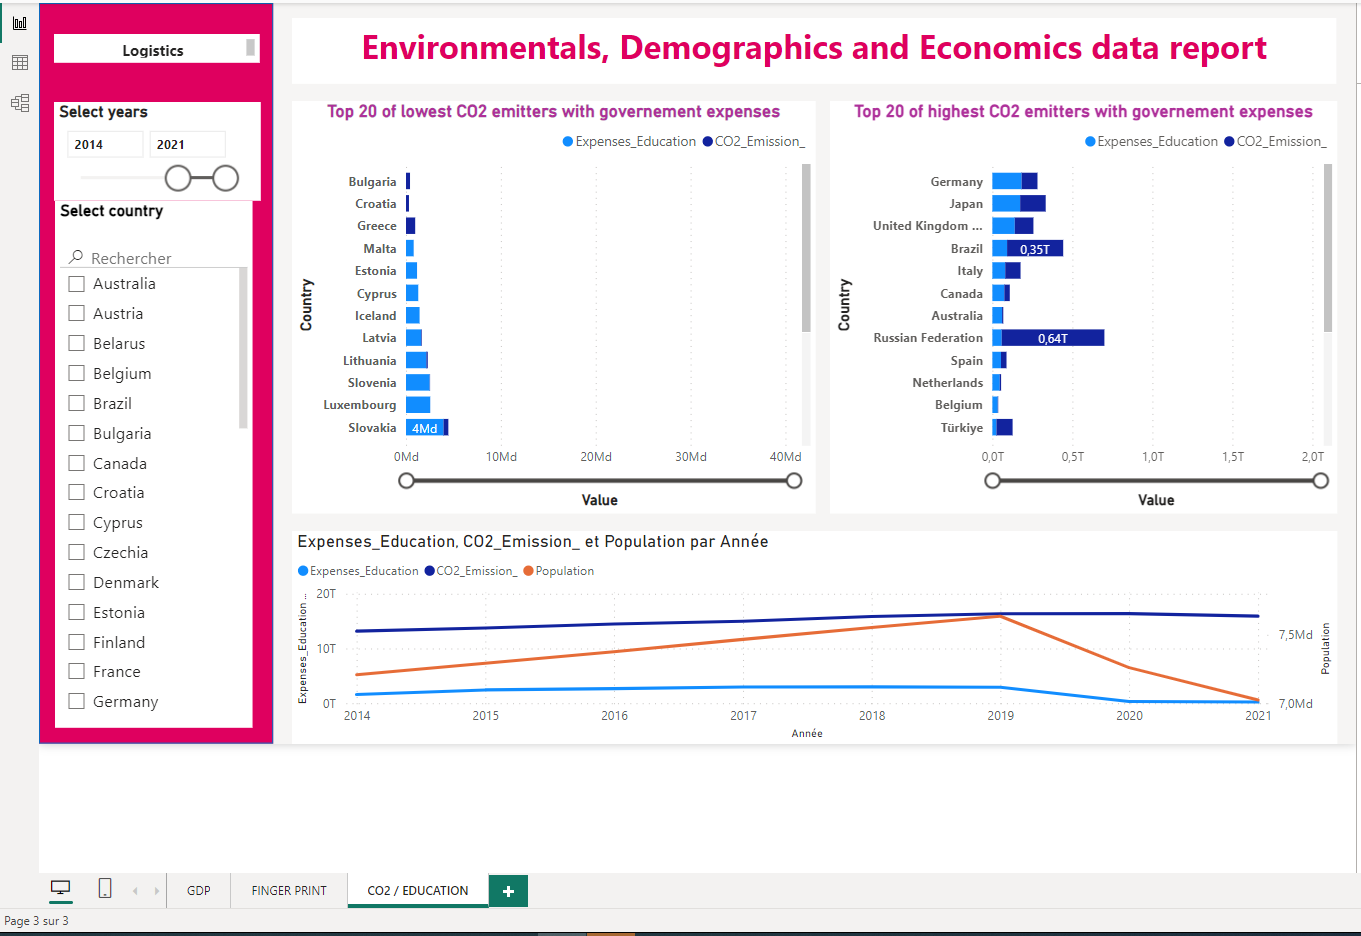

The page's visual inventory and layout, read from the dashboard file:
{"tool":"powerbi","page":{"name":"CO2 / EDUCATION","canvas":[1280,720],"ordinal":2},"visuals":[{"type":"shape","box":[0,0,227.6,719.8],"z":0,"group":"g2"},{"type":"slicer","title":"Select years","fields":{"Values":["DimDate.FullDate.Variation.Hiérarchie de dates.Année"]},"box":[15,95.8,201.2,96.2],"z":0,"group":"g1"},{"type":"textbox","box":[14.3,671.2,199.9,30.9],"z":0},{"type":"textbox","box":[246.2,15,1015,63.8],"z":1000},{"type":"group","id":"g1","title":"Groupe 5","box":[15,95.8,200.8,95.8],"z":1000,"group":"g2"},{"type":"barChart","title":"Top 20 of lowest CO2 emitters with governement expenses","fields":{"Y":["Mesures.Expenses_Education","Mesures.CO2_Emission_"],"Category":["Country Table.Country"]},"box":[245.7,95.7,508.6,401.4],"z":2000},{"type":"barChart","title":"Top 20 of highest CO2 emitters with governement expenses","fields":{"Category":["Country Table.Country"],"Y":["Mesures.Expenses_Education","Mesures.CO2_Emission_"]},"box":[768.6,95.7,492.9,401.4],"z":3000},{"type":"slicer","title":"Select country","fields":{"Values":["Country Table.Country"]},"box":[16,192,192,512],"z":3000,"group":"g2"},{"type":"group","id":"g2","title":"Groupe 4","box":[0,0,227.6,719.8],"z":4000},{"type":"textbox","box":[14.6,30.1,200.2,28.2],"z":4000,"group":"g2"},{"type":"lineChart","fields":{"Y":["Mesures.Expenses_Education","Mesures.CO2_Emission_"],"Category":["DimDate.FullDate.Variation.Hiérarchie de dates.Année"],"Y2":["Mesures.Population"]},"box":[245.7,512.9,1015.7,207.1],"z":5000}]}

Visuals, with their boxes on the page's 1280x720 design canvas (x1, y1, x2, y2). These are canvas units, not pixel positions in the 1361x936 screenshot, which may show the page scaled, cropped or inside an application window:
shape: bbox=[0, 0, 228, 720]
"Select years" slicer: bbox=[15, 96, 216, 192]
textbox: bbox=[14, 671, 214, 702]
textbox: bbox=[246, 15, 1261, 79]
"Groupe 5" group: bbox=[15, 96, 216, 192]
"Top 20 of lowest CO2 emitters with governement expenses" barChart: bbox=[246, 96, 754, 497]
"Top 20 of highest CO2 emitters with governement expenses" barChart: bbox=[769, 96, 1262, 497]
"Select country" slicer: bbox=[16, 192, 208, 704]
"Groupe 4" group: bbox=[0, 0, 228, 720]
textbox: bbox=[15, 30, 215, 58]
lineChart - Mesures.Expenses_Education x Mesures.CO2_Emission_: bbox=[246, 513, 1261, 720]
